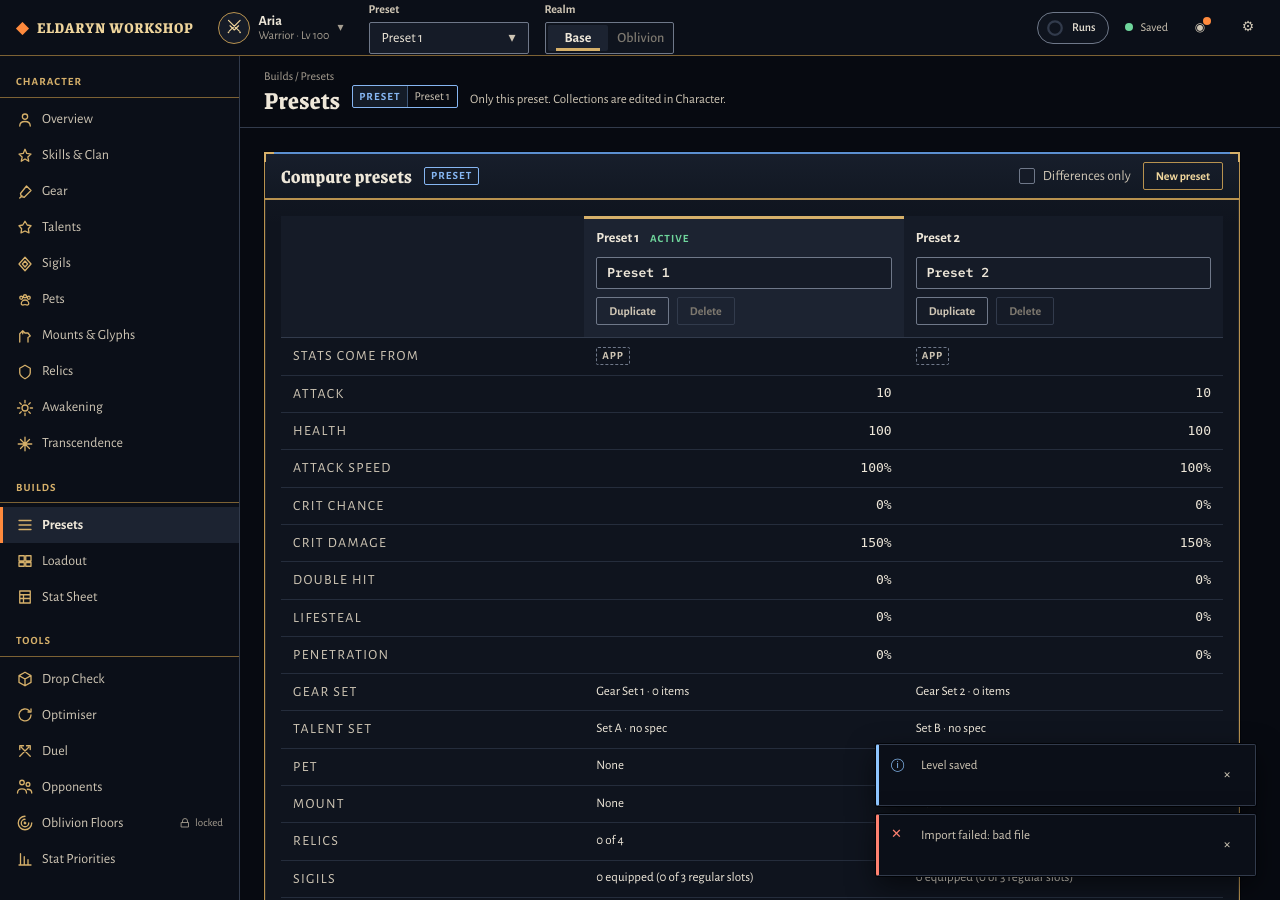
Test: notifications: a message shows in the live region and the Activity drawer, errors stay
This screenshot has width=1280, height=900.
Check: the message named "Notifications" shows "Level saved", box 921,759 -> 978,772
Check: the message "✕ Import failed: bad file ×" is shown, box 876,814 -> 1256,876
Step 1. Click the button "◉" → {"x": 1200, "y": 28}, box 1184,12 -> 1216,44
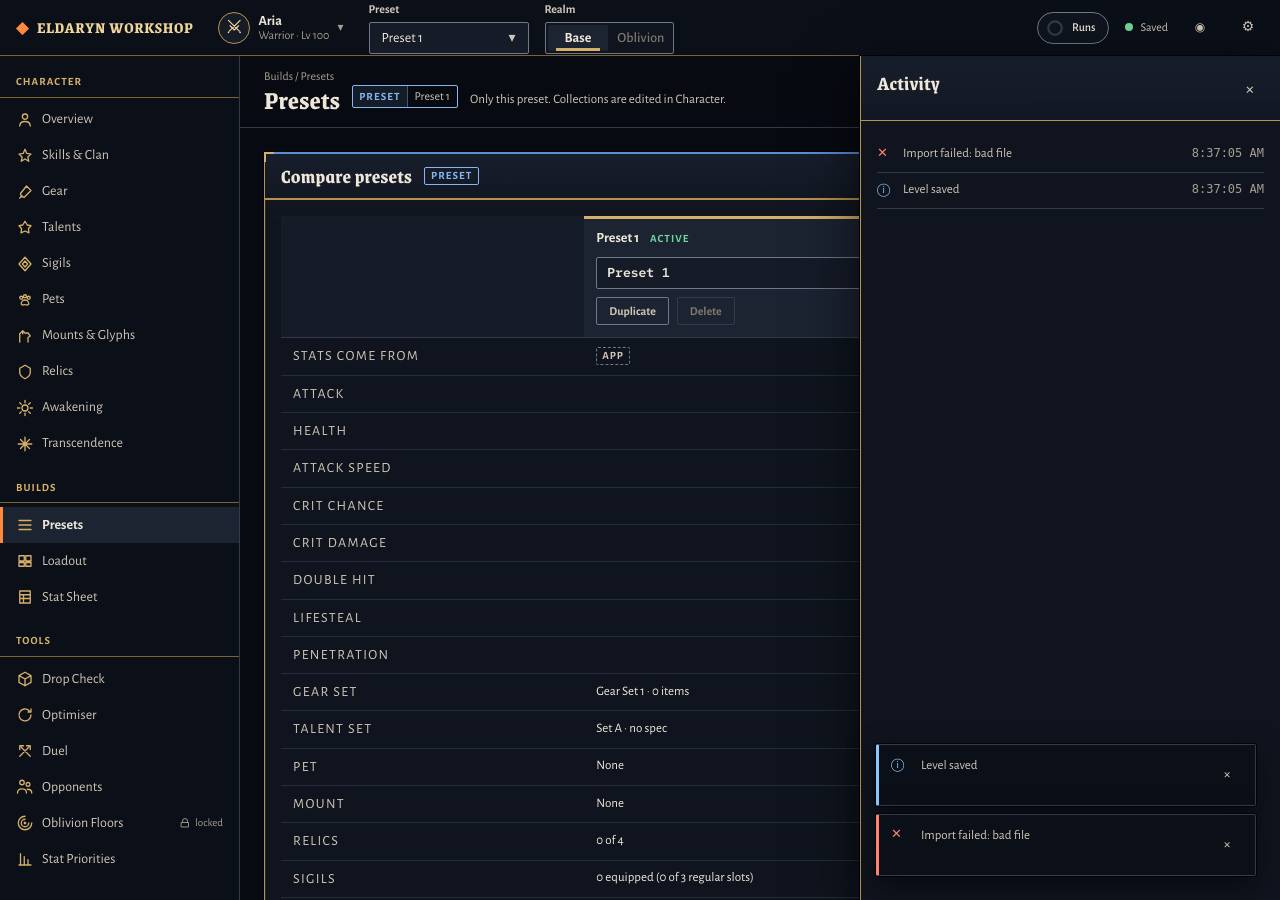
Check: the list named "Session activity" shows "Level saved", box 903,183 -> 960,196
Check: the list named "Session activity" shows "Import failed", box 903,147 -> 1012,160
